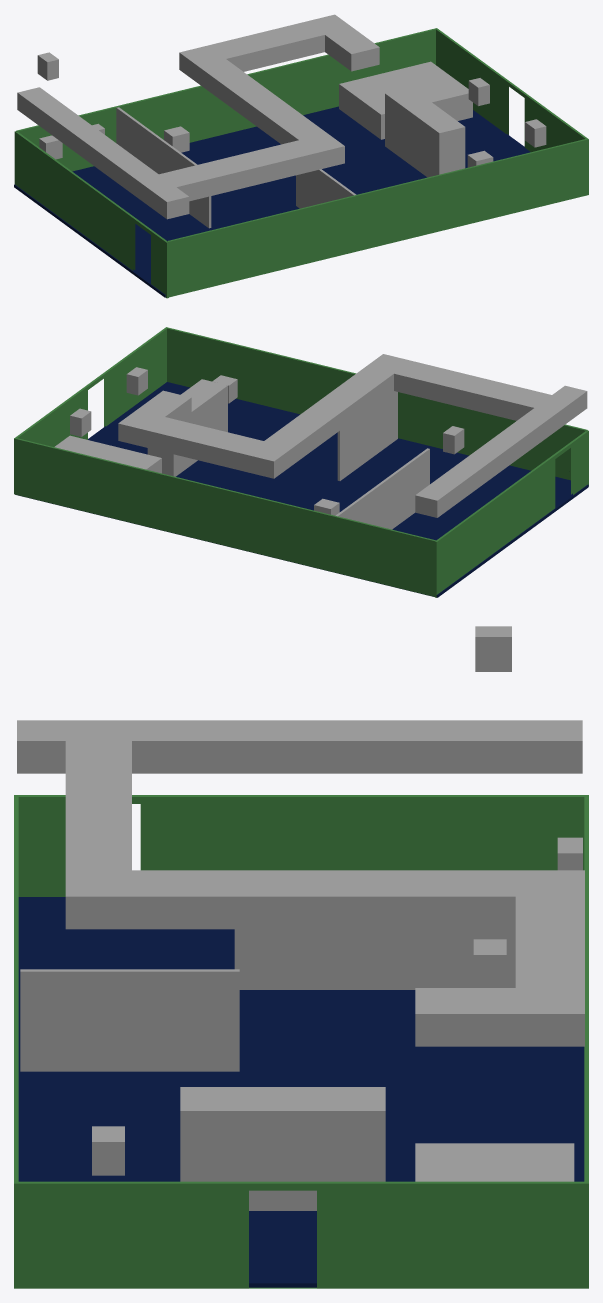
Rendered from Nivel3FIXED.fbx.
3 views of the same model, one above another, from view 1: azimuth 30°, elevation 25°; view 2: azimuth 150°, elevation 25°; view 3: azimuth 270°, elevation 25° (orthographic). The views are drawn at different scales.
Parts seen in each view (by area): view 1: pCube2, Box001, pCube1, pCube3, pCube6, Asset, Elevador, pCube4, Pared1, Pared2, Palanca004, Palanca005 (+3 smaller); view 2: pCube3, Box001, pCube1, pCube2, pCube6, pCube4, Pared1, Pared2, Asset, Elevador, Palanca004, Palanca003 (+1 smaller); view 3: Box001, pCube1, pCube4, pCube6, Pared2, Asset, Pared1, Elevador, pCube2, pCube3, Palanca005, Enemigo (+2 smaller).
Part boxes in pixels (x1,y1,x2,y2): pCube2: (167,139,586,297); Box001: (17,14,379,219); pCube1: (14,106,530,297); pCube3: (16,28,436,171); pCube6: (14,131,168,298); Asset: (385,87,465,177); Elevador: (339,61,472,139); pCube4: (436,28,588,195); Pared1: (116,107,211,228); Pared2: (296,169,356,208); Palanca004: (525,119,546,147); Palanca005: (37,52,58,80); pCube3: (15,438,436,596); Box001: (118,354,587,517); pCube1: (15,382,588,597); pCube2: (166,327,587,480); pCube6: (435,430,588,597); pCube4: (14,327,167,494); Pared1: (335,448,429,529); Pared2: (337,391,397,480); Asset: (147,379,227,476); Elevador: (54,435,161,473); Palanca004: (126,367,147,395); Palanca003: (70,408,91,436); Box001: (17,720,584,1046); pCube1: (18,897,584,1287); pCube4: (14,1181,588,1288); pCube6: (14,795,588,896); Pared2: (20,969,239,1071); Asset: (180,1087,385,1210); Pared1: (234,929,515,989); Elevador: (415,1143,574,1181); pCube2: (14,795,18,1181); pCube3: (584,795,588,1181); Palanca005: (475,626,511,671); Enemigo: (473,939,506,987).
Bounding box in the file's own units: 1713 × 566 × 1067.
